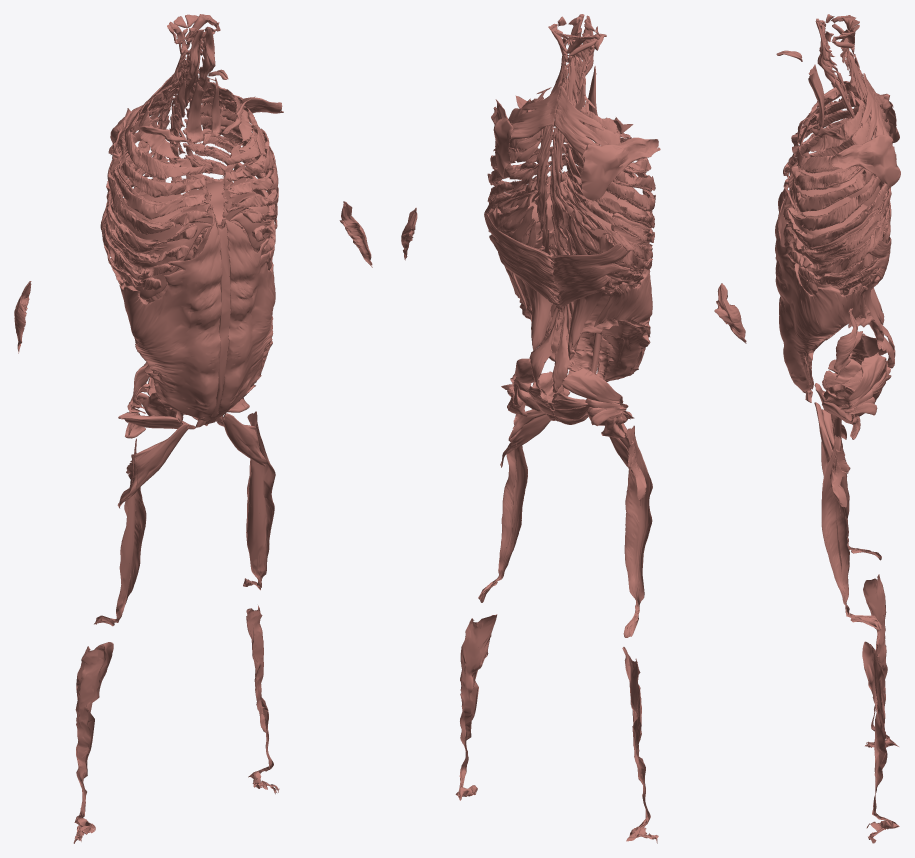
File: deep.glb
The picture shows the model from 3 angles, left to right: view 1: azimuth 30°, elevation 25°; view 2: azimuth 150°, elevation 25°; view 3: azimuth 270°, elevation 25°; orthographic projection. The views are drawn at different scales.
Visible parts, largest first — view 1: internal_oblique_r, internal_oblique_l, External_intercostal_muscles_r, Internal_intercostal_muscles_r, Diaphragm, Tibialis_posterior_muscle_r, vastus_intermedius_l, External_intercostal_muscles_l, Internal_intercostal_muscles_l, vastus_intermedius_r, Innermost_intercostal_muscles_l, Tibialis_posterior_muscle_l (+11 smaller); view 2: External_intercostal_muscles_r, Transversus_abdominis_muscle_r, vastus_intermedius_r, Tibialis_posterior_muscle_l, Serratus_posterior_inferior_muscle_r, Subscapularis_muscle_r, Serratus_posterior_inferior_muscle_l, vastus_intermedius_l, Diaphragm, internal_oblique_r, Levatores_longi_costarum_l, External_intercostal_muscles_l (+19 smaller); view 3: External_intercostal_muscles_l, internal_oblique_l, vastus_intermedius_l, Internal_intercostal_muscles_l, Tibialis_posterior_muscle_l, Diaphragm, Subscapularis_muscle_l, Innermost_intercostal_muscles_l, Transversus_abdominis_muscle_l, Tibialis_posterior_muscle_r, Innermost_intercostal_muscles_r, adductor_brevis_l (+21 smaller).
Boxes of the visible parts, left/top/right/bottom form: internal_oblique_r: left=116, top=217, right=222, bottom=421; internal_oblique_l: left=215, top=219, right=275, bottom=419; External_intercostal_muscles_r: left=100, top=92, right=178, bottom=287; Internal_intercostal_muscles_r: left=109, top=123, right=211, bottom=290; Diaphragm: left=118, top=181, right=273, bottom=299; Tibialis_posterior_muscle_r: left=73, top=642, right=113, bottom=843; vastus_intermedius_l: left=243, top=411, right=275, bottom=590; External_intercostal_muscles_l: left=184, top=81, right=278, bottom=251; Internal_intercostal_muscles_l: left=205, top=100, right=276, bottom=262; vastus_intermedius_r: left=94, top=438, right=146, bottom=626; Innermost_intercostal_muscles_l: left=202, top=99, right=276, bottom=238; Tibialis_posterior_muscle_l: left=246, top=605, right=279, bottom=794; External_intercostal_muscles_r: left=565, top=111, right=655, bottom=289; Transversus_abdominis_muscle_r: left=580, top=214, right=650, bottom=380; vastus_intermedius_r: left=623, top=425, right=652, bottom=637; Tibialis_posterior_muscle_l: left=455, top=614, right=497, bottom=800; Serratus_posterior_inferior_muscle_r: left=552, top=244, right=629, bottom=309; Subscapularis_muscle_r: left=580, top=137, right=660, bottom=201; Serratus_posterior_inferior_muscle_l: left=484, top=213, right=559, bottom=309; vastus_intermedius_l: left=478, top=414, right=527, bottom=602; Diaphragm: left=497, top=173, right=649, bottom=289; internal_oblique_r: left=594, top=269, right=652, bottom=381; Levatores_longi_costarum_l: left=499, top=87, right=551, bottom=247; External_intercostal_muscles_l: left=484, top=98, right=539, bottom=244; External_intercostal_muscles_l: left=790, top=105, right=891, bottom=293; internal_oblique_l: left=775, top=200, right=868, bottom=393; vastus_intermedius_l: left=821, top=435, right=881, bottom=629; Internal_intercostal_muscles_l: left=783, top=146, right=888, bottom=287; Tibialis_posterior_muscle_l: left=862, top=641, right=899, bottom=843; Diaphragm: left=790, top=166, right=881, bottom=295; Subscapularis_muscle_l: left=831, top=134, right=900, bottom=187; Innermost_intercostal_muscles_l: left=793, top=152, right=887, bottom=284; Transversus_abdominis_muscle_l: left=793, top=211, right=877, bottom=402; Tibialis_posterior_muscle_r: left=863, top=574, right=898, bottom=747; Innermost_intercostal_muscles_r: left=795, top=93, right=883, bottom=188; adductor_brevis_l: left=814, top=402, right=846, bottom=507.
Size of the model in its own units: 0.7331 by 1.61 by 0.2362.
